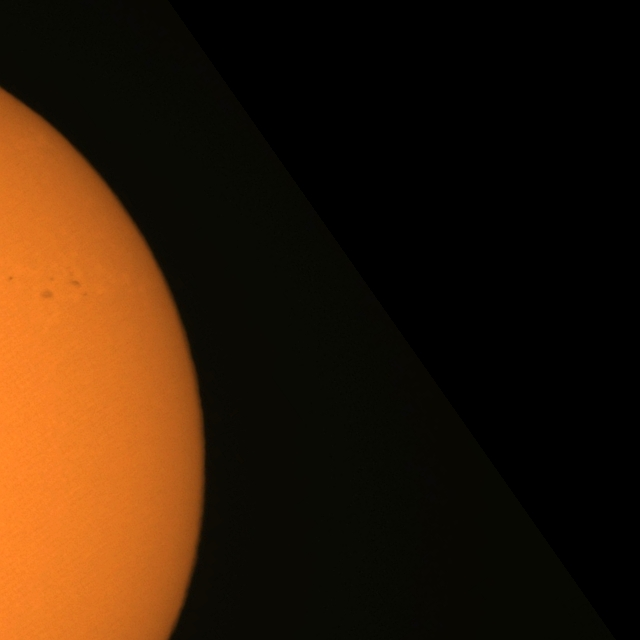sunspot: (70, 277, 86, 294), (6, 274, 15, 282)
